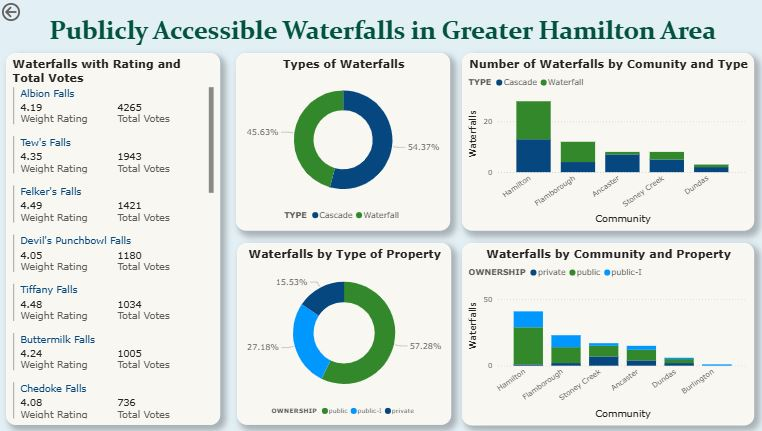

The dashboard page shown, as its layout file describes it:
{"tool":"powerbi","page":{"name":"EDA","canvas":[1280,720],"ordinal":0},"visuals":[{"type":"multiRowCard","title":"Waterfalls with Rating and Total Votes","fields":{"Values":["City_Waterfalls.NAME","Sheet1.Weight Rating","Sheet1.Total Votes"]},"box":[11.4,88.6,357.1,620],"z":0},{"type":"actionButton","box":[0,0,100,40],"z":1000},{"type":"columnChart","title":"Number of Waterfalls by Comunity and Type","fields":{"Category":["Sheet1.COMMUNITY"],"Y":["CountNonNull(Sheet1.OBJECTID)"],"Series":["Sheet1.TYPE"]},"box":[771.6,88,486.7,295.9],"z":2000},{"type":"columnChart","title":"Waterfalls by Community and Property","fields":{"Category":["City_Waterfalls.COMMUNITY"],"Y":["CountNonNull(City_Waterfalls.OBJECTID)"],"Series":["City_Waterfalls.OWNERSHIP"]},"box":[771.8,404.6,486.7,303.8],"z":3000},{"type":"donutChart","title":"Types of Waterfalls","fields":{"Category":["City_Waterfalls.TYPE"],"Y":["CountNonNull(City_Waterfalls.OBJECTID)"]},"box":[395.7,88.1,357.1,295.6],"z":4000},{"type":"donutChart","title":"Waterfalls by Type of Property","fields":{"Category":["City_Waterfalls.OWNERSHIP"],"Y":["CountNonNull(City_Waterfalls.OBJECTID)"]},"box":[396.2,404.8,357.1,303.3],"z":5000},{"type":"textbox","box":[43.4,18.1,1192,70],"z":6000}]}

Visuals, with their boxes on the page's 1280x720 design canvas (x1, y1, x2, y2). These are canvas units, not pixel positions in the 762x431 screenshot, which may show the page scaled, cropped or inside an application window:
"Waterfalls with Rating and Total Votes" multiRowCard: box=[11, 89, 368, 709]
actionButton: box=[0, 0, 100, 40]
"Number of Waterfalls by Comunity and Type" columnChart: box=[772, 88, 1258, 384]
"Waterfalls by Community and Property" columnChart: box=[772, 405, 1258, 708]
"Types of Waterfalls" donutChart: box=[396, 88, 753, 384]
"Waterfalls by Type of Property" donutChart: box=[396, 405, 753, 708]
textbox: box=[43, 18, 1235, 88]
